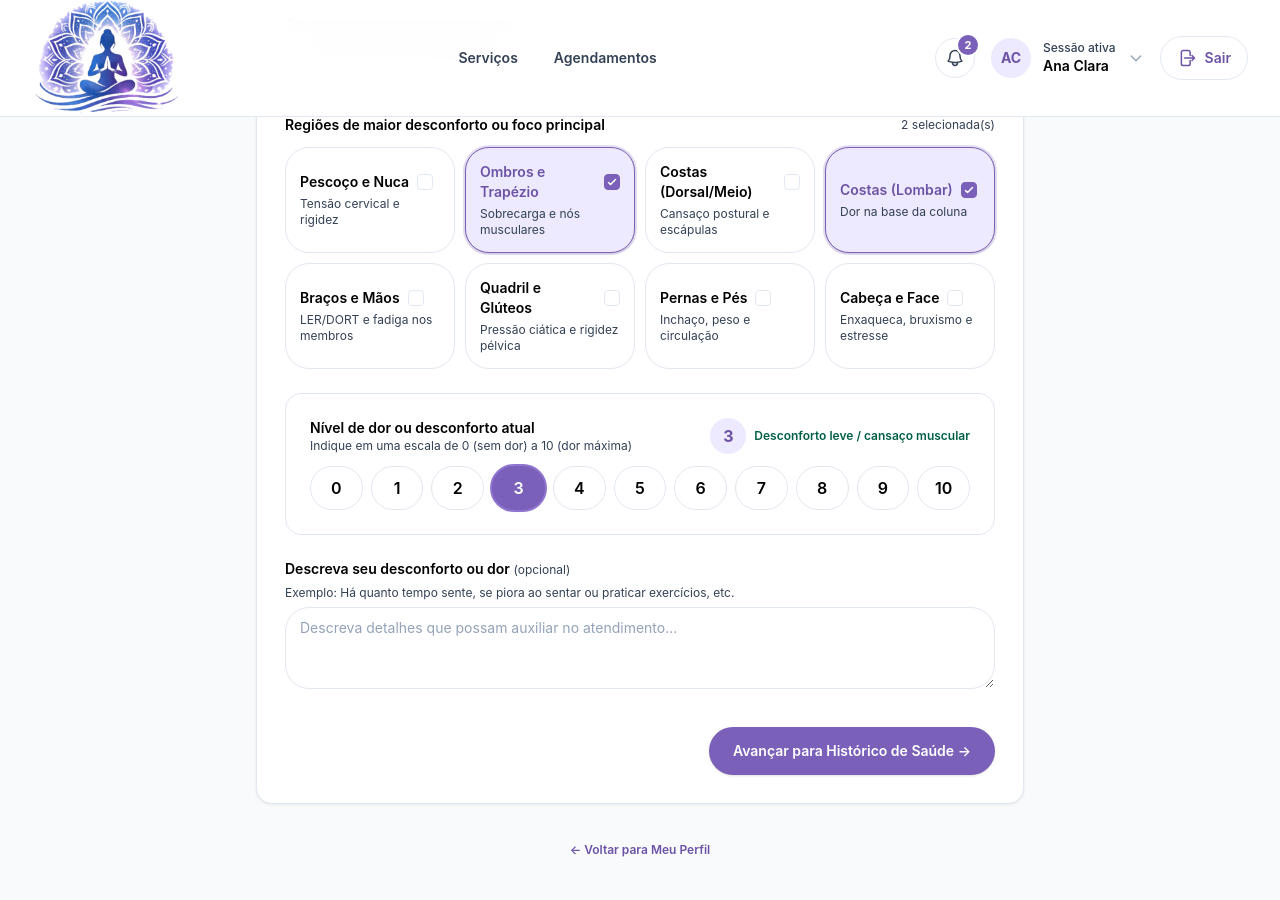
Scenario: FichaAnamnesePage › exibe campo de detalhes ao marcar "Sim" em uma condição clínica
(page scrolled)
// Vai para a etapa 2 (saúde)
Click the button "Avançar para Histórico de Saúde →": (852, 751) [709, 727, 995, 775]
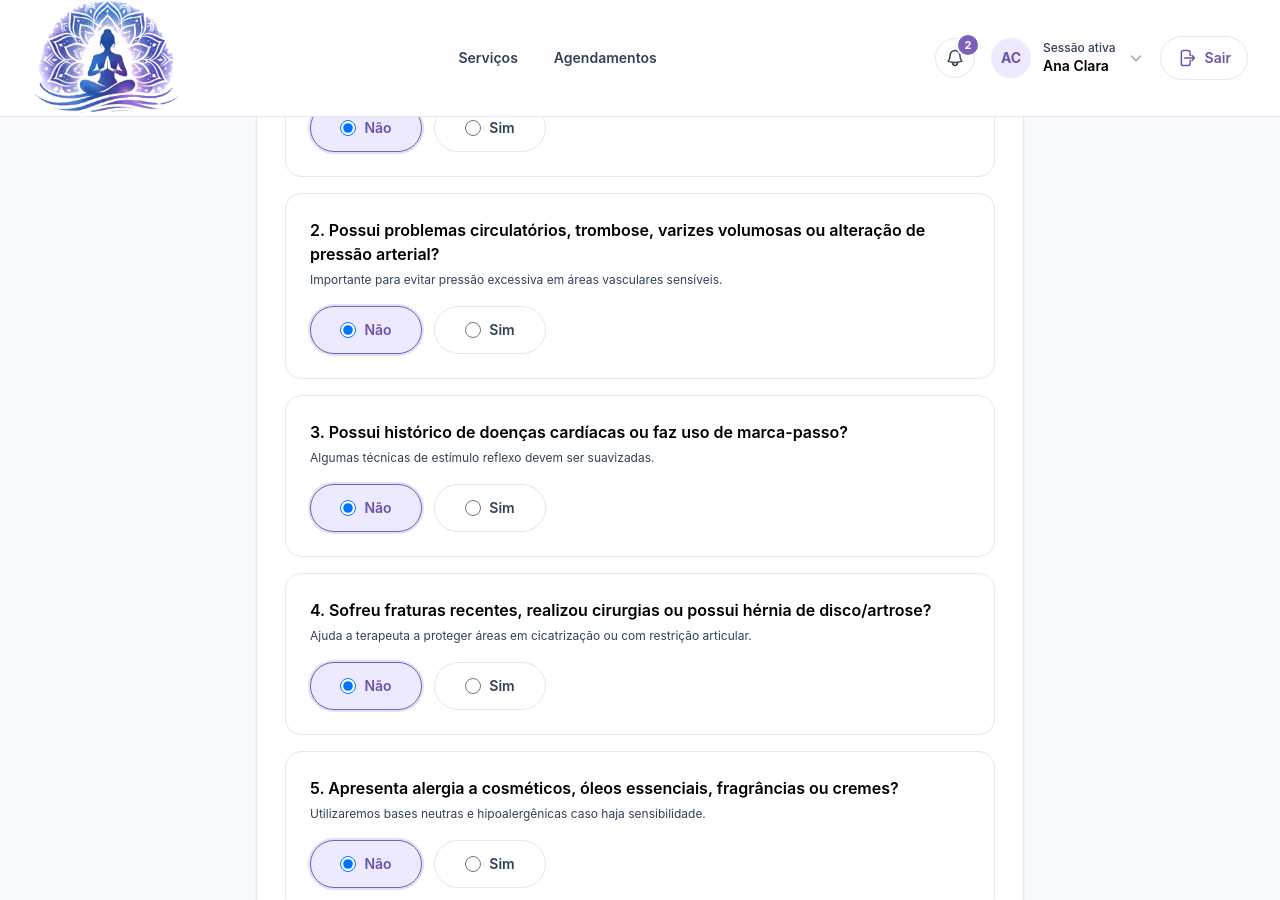
Click the 5th radio button labelled "Sim": (473, 864) [465, 856, 481, 872]
(page scrolled)
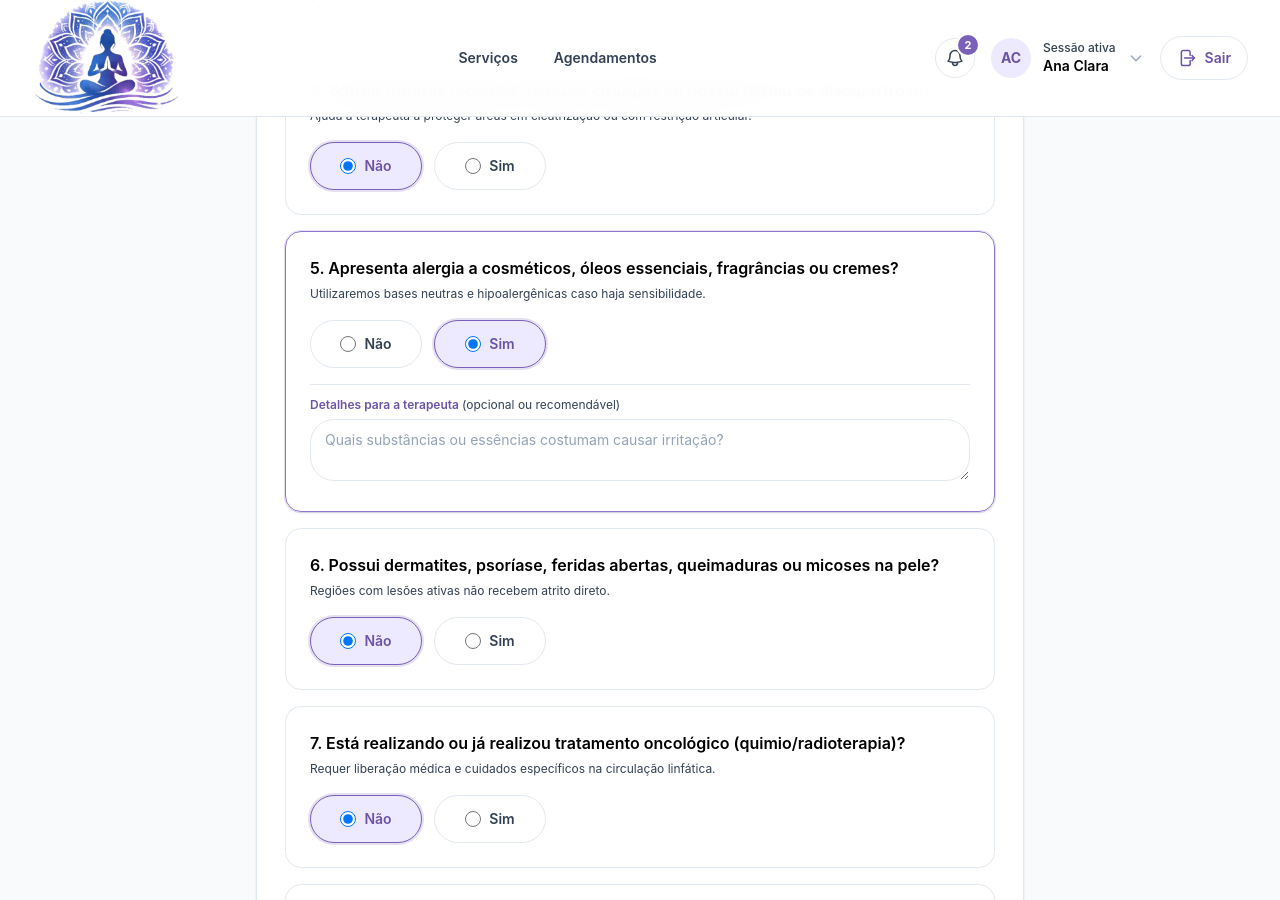
Check: the text box with placeholder "Quais substâncias ou essências costumam causar irritação?" is shown, box [310, 419, 970, 481]
